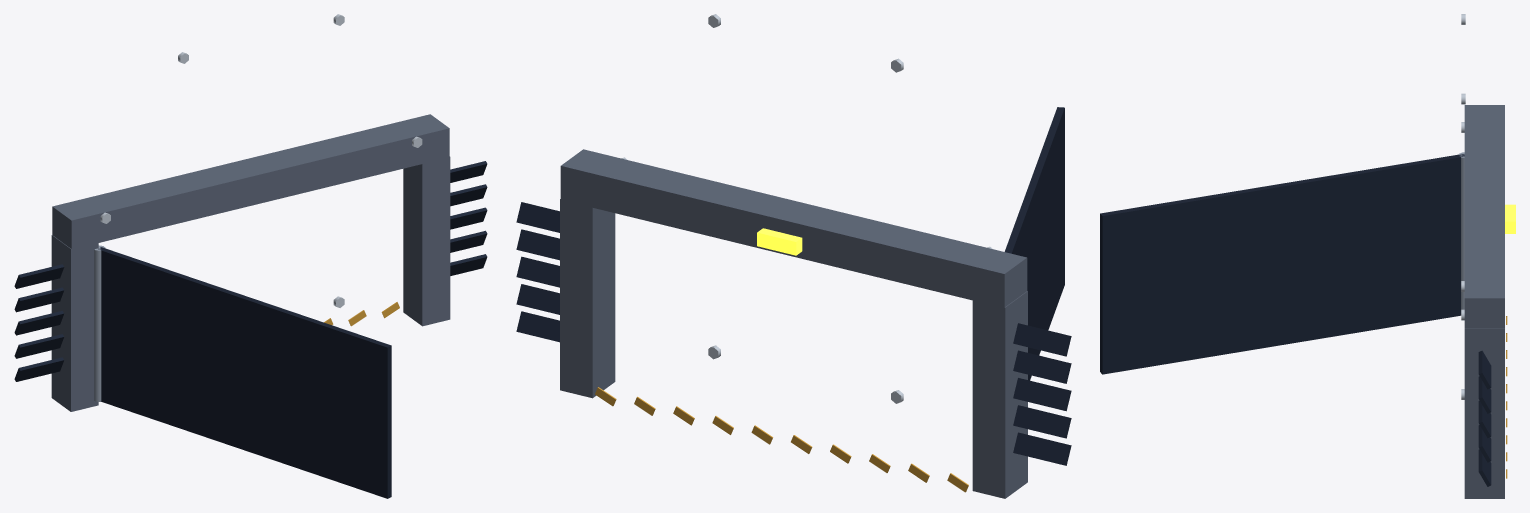
File: shared_vent_grate.glb
3 views of the same model, side by side, from view 1: azimuth 30°, elevation 25°; view 2: azimuth 150°, elevation 25°; view 3: azimuth 270°, elevation 25° (orthographic). The views are drawn at different scales.
Visible parts, largest first — view 1: vent_grate_frame, vent_frame_top, vent_frame_side1, vent_frame_side-1, vent_louvre_l, vent_louvre_r, vent_grate_hinge, vent_frame_bolts; view 2: vent_frame_top, vent_frame_side1, vent_frame_side-1, vent_grate_frame, vent_louvre_l, vent_louvre_r, vent_hazard, vent_lamp, vent_frame_bolts; view 3: vent_grate_frame, vent_frame_top, vent_frame_side1, vent_louvre_r, vent_grate_hinge.
Part boxes in pixels (x1,y1,x2,y2): vent_grate_frame: (98,247,391,498); vent_frame_top: (52,114,449,249); vent_frame_side1: (403,156,450,326); vent_frame_side-1: (51,235,98,411); vent_louvre_l: (14,264,64,381); vent_louvre_r: (450,161,487,275); vent_grate_hinge: (94,245,105,401); vent_frame_bolts: (100,14,422,307); vent_frame_top: (560,149,1027,307); vent_frame_side1: (560,199,615,398); vent_frame_side-1: (972,291,1027,498); vent_grate_frame: (1004,107,1064,380); vent_louvre_l: (1013,323,1071,465); vent_louvre_r: (516,202,559,342); vent_hazard: (595,387,968,492); vent_lamp: (757,228,802,255); vent_frame_bolts: (621,14,992,403); vent_grate_frame: (1100,154,1464,374); vent_frame_top: (1464,105,1504,327); vent_frame_side1: (1464,328,1504,498); vent_louvre_r: (1478,350,1491,486); vent_grate_hinge: (1458,152,1464,315).
Bounding box in the file's own units: 4.2 × 2.87 × 3.09.
